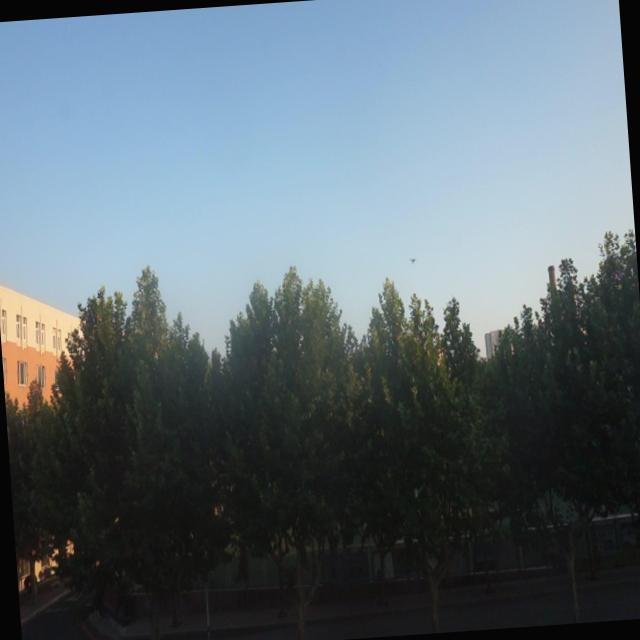drone: (404, 251, 422, 269)
